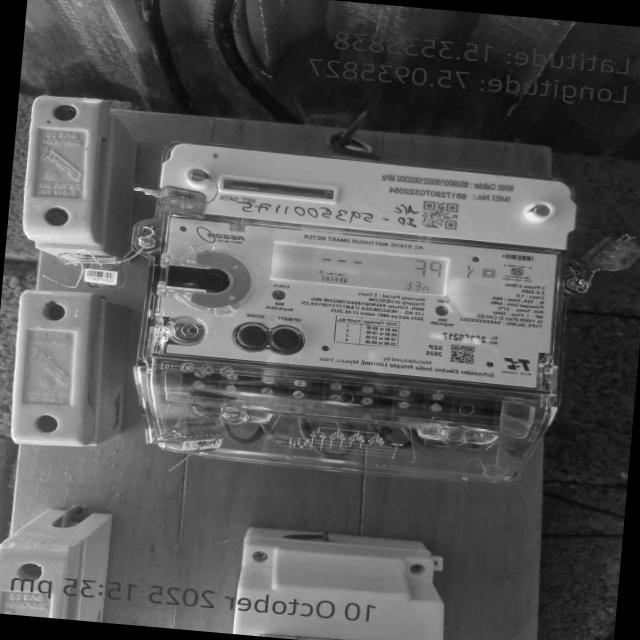meter: (144, 144, 573, 396)
